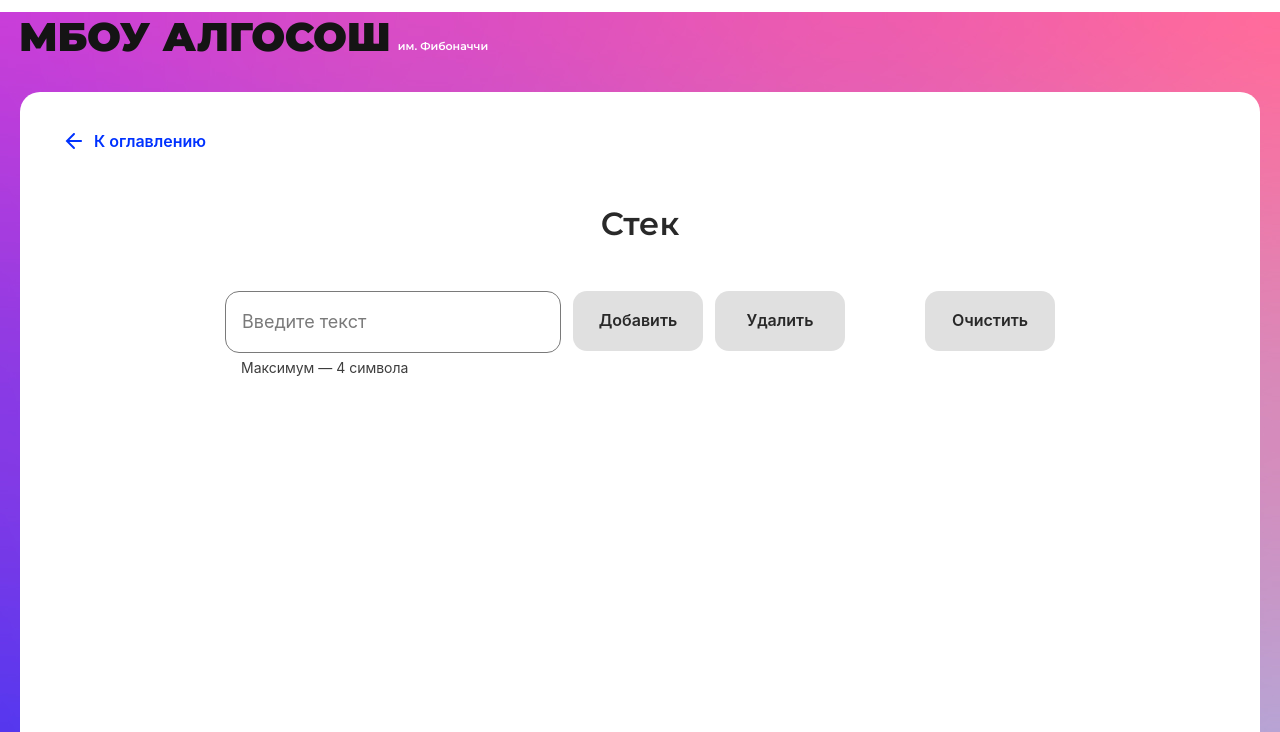
Тесты страницы стека › Проверка состояния кнопки › Кнопка верно меняет значение атрибута disabled
This screenshot has width=1280, height=732.
Expected: the button "Добавить" is disabled, [573, 291, 703, 351]
Type "123" into the field with placeholder "Введите текст" at coordinates (393, 322), box [225, 291, 561, 353]
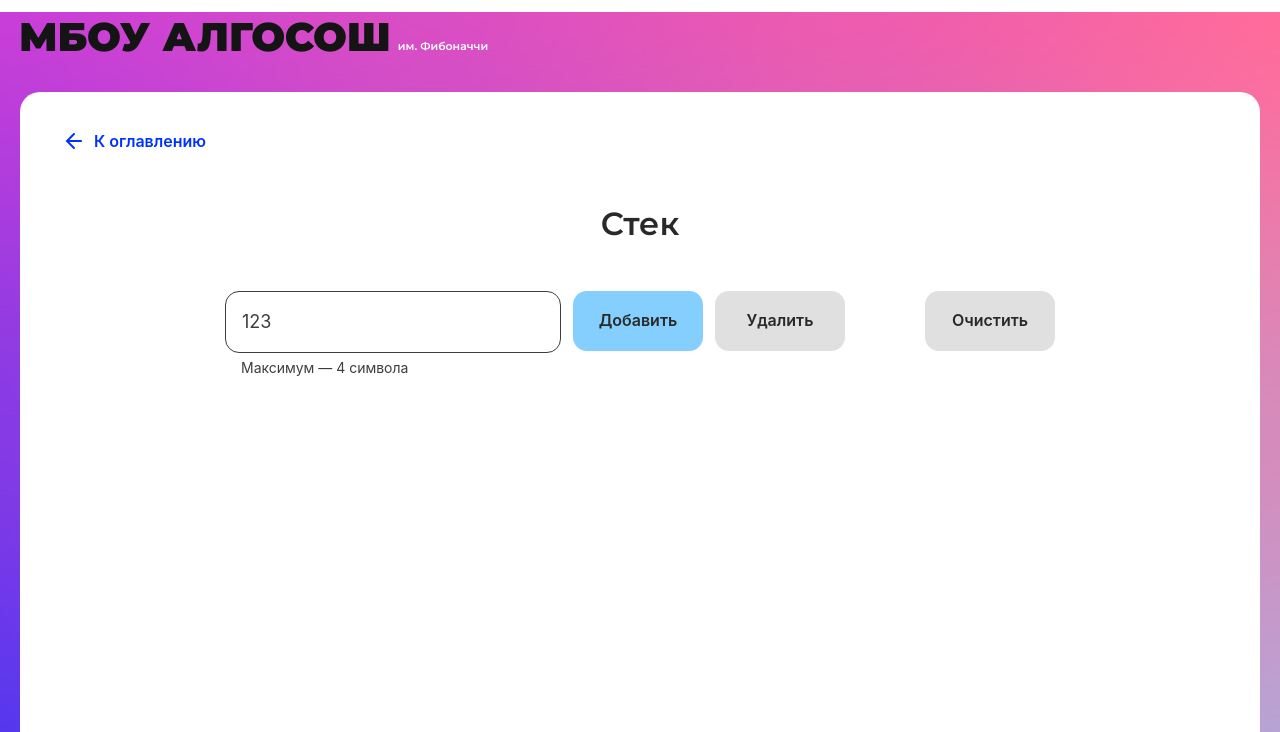
Expected: the text "Добавить" is enabled
Clear the field at coordinates (393, 322), box [225, 291, 561, 353]
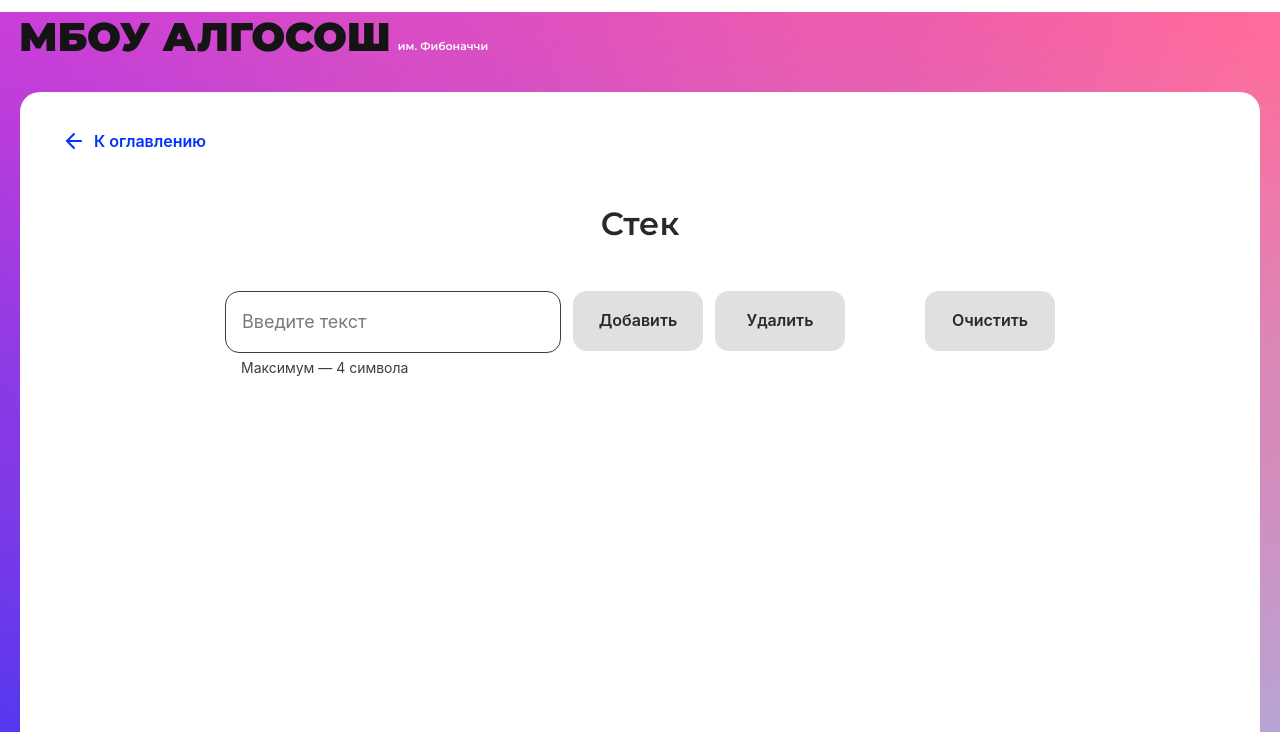
Expected: the button "Добавить" is disabled, [573, 291, 703, 351]
